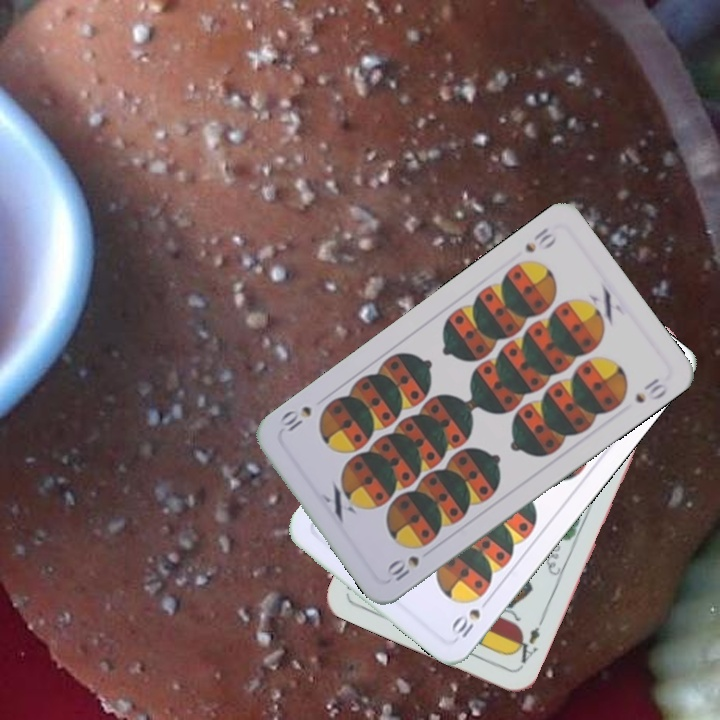EA: (509, 614, 547, 670)
S10: (447, 593, 494, 641), (383, 551, 422, 584), (520, 223, 559, 256)
